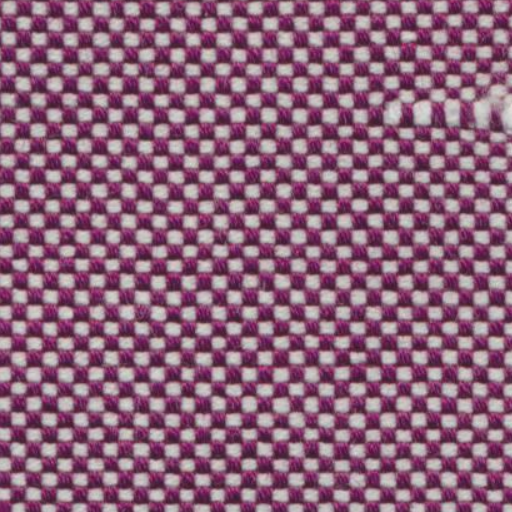DaiSha: (380, 80, 505, 140)
